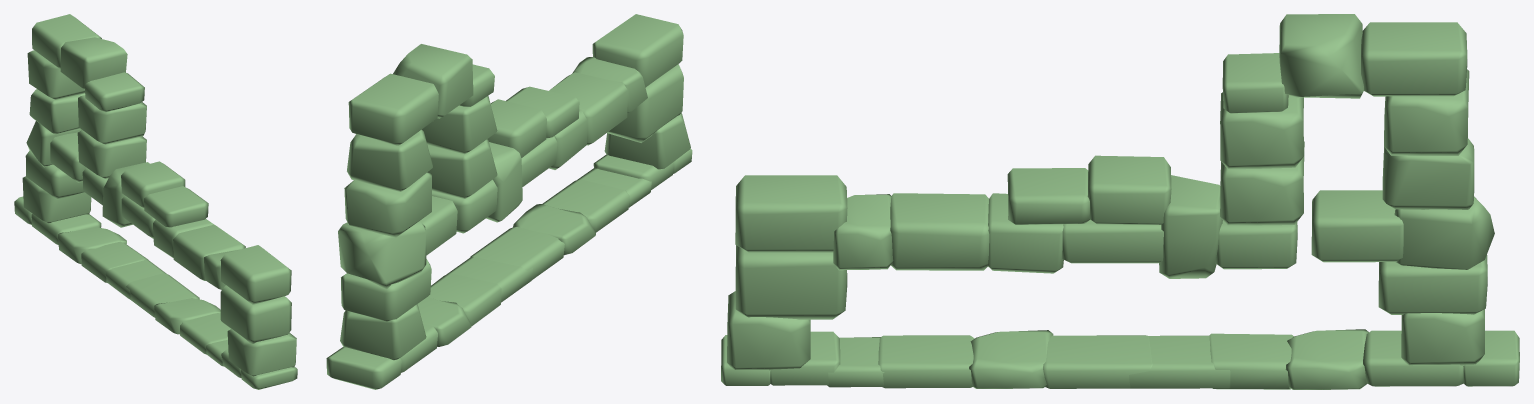
File: Wall_Break_04_Lod0.fbx
3 views of the same model, side by side, from view 1: azimuth 30°, elevation 25°; view 2: azimuth 150°, elevation 25°; view 3: azimuth 270°, elevation 25° (orthographic). The views are drawn at different scales.
Parts seen in each view (by area): view 1: Wall_Break_04_Lod0; view 2: Wall_Break_04_Lod0; view 3: Wall_Break_04_Lod0.
Part boxes in pixels (x1,y1,x2,y2): Wall_Break_04_Lod0: [14, 14, 297, 389]; Wall_Break_04_Lod0: [326, 14, 692, 389]; Wall_Break_04_Lod0: [721, 14, 1519, 389].
Size of the model in its own units: 41.67 by 166 by 345.
